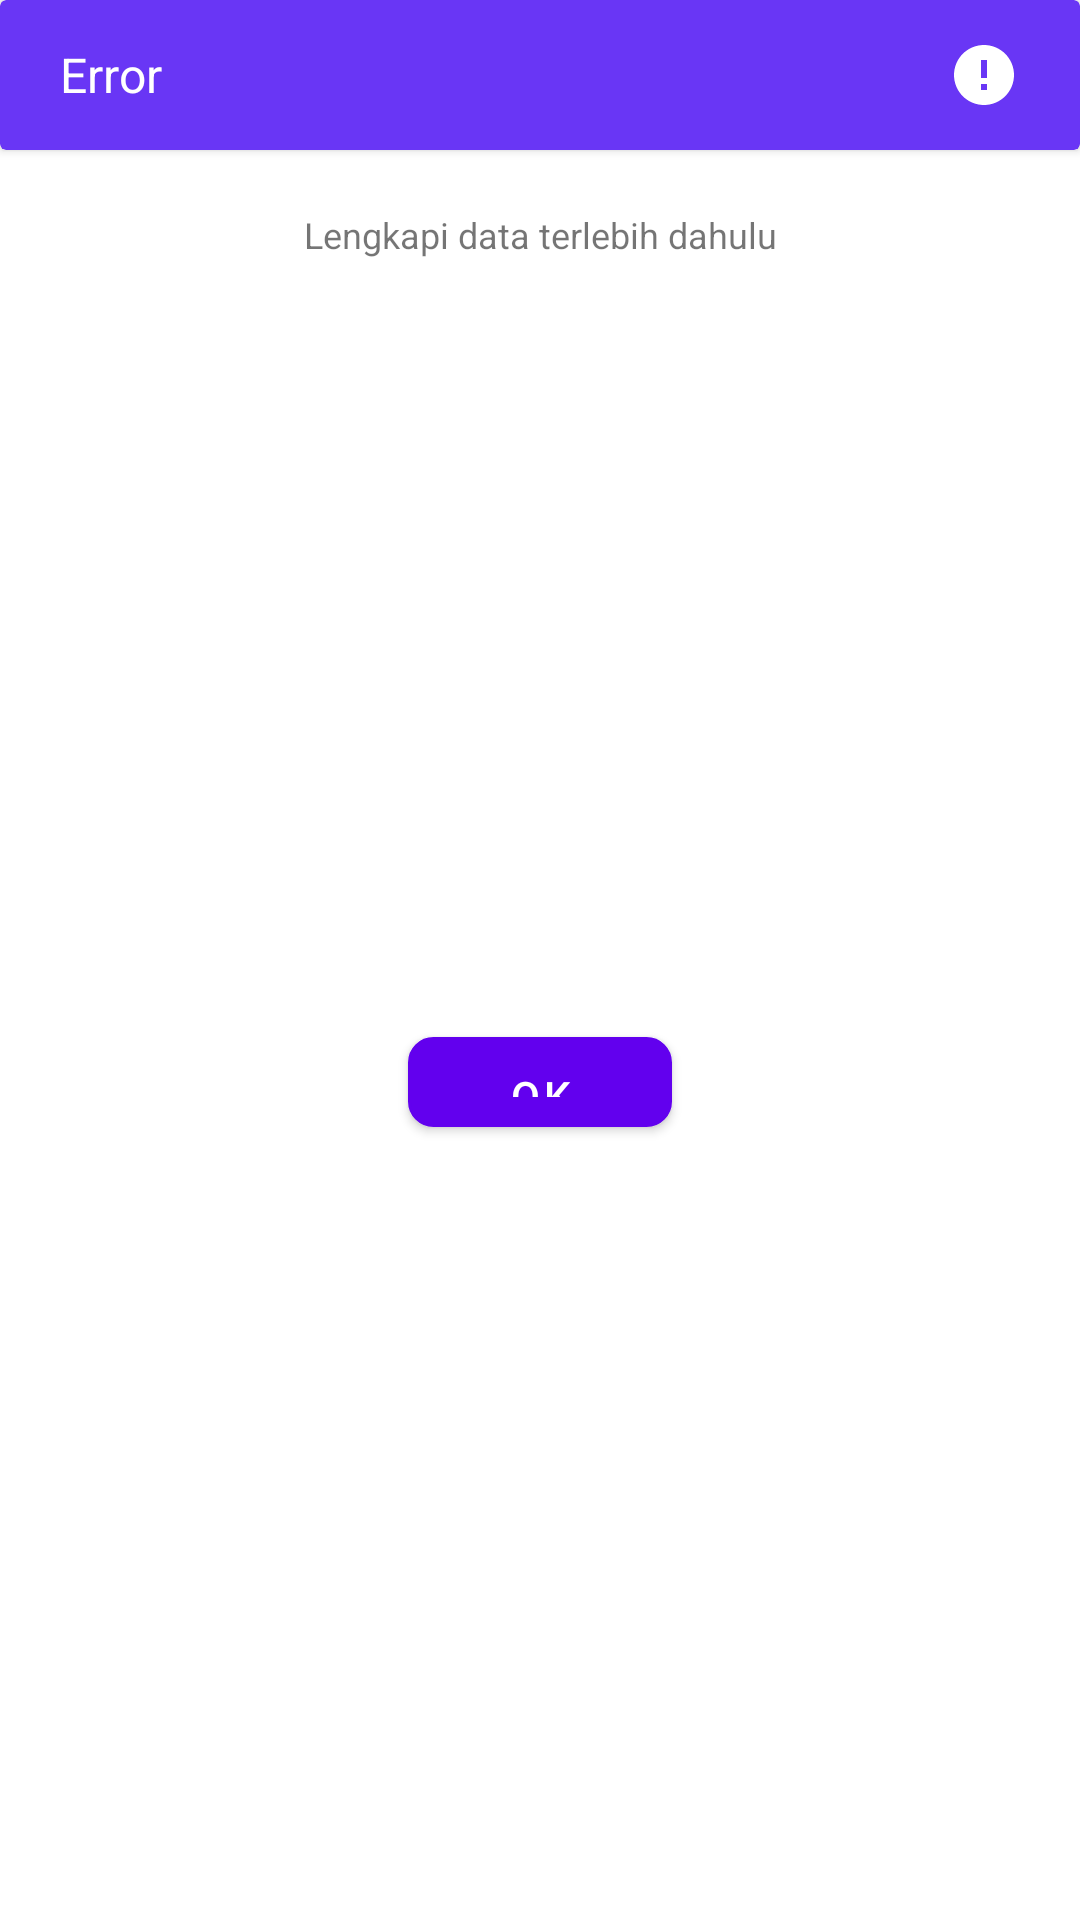

Named icons in this screenshot (1080px×1920px) and their centers, point (x, y):
error: point (984, 75)
